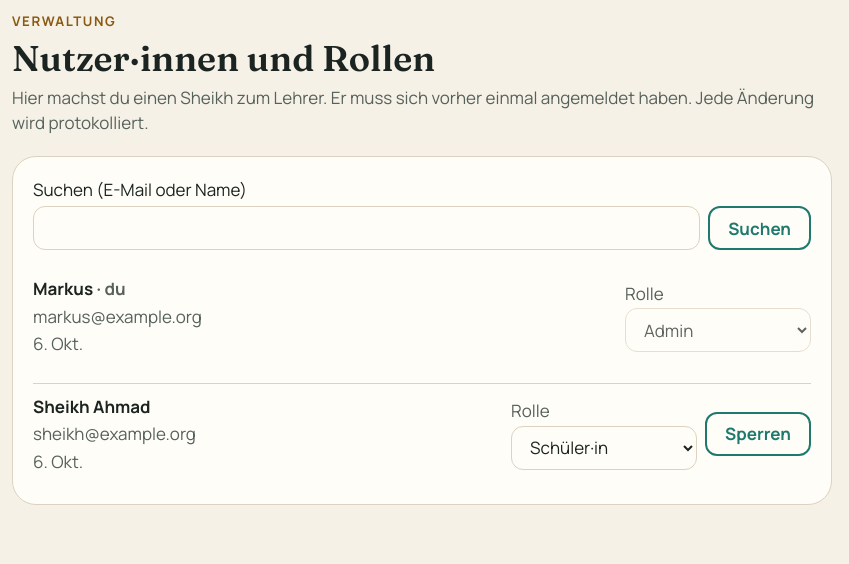
it: the admin area (ADR-0005) › makes a sheikh a teacher, and never offers to change one’s own role
The image size is (849, 564).
Select "Sheikh / Lehrer·in" in the dropdown labelled "Rolle" in the row of "sheikh@example.org". click: (604, 448)
box: 511,426 -> 697,470
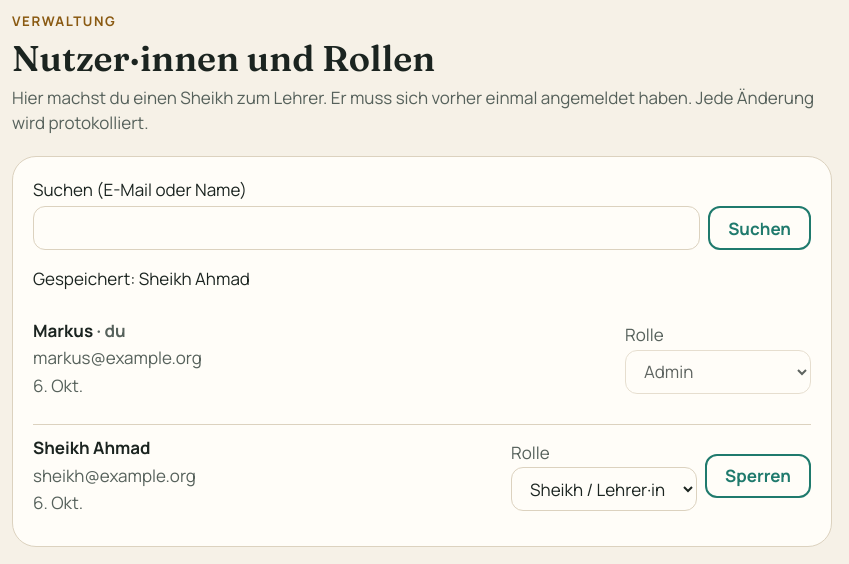
Expected: the dropdown labelled "Rolle" in the row of "markus@example.org" is disabled, 625,350 -> 811,394
Expected: the message reads "Gespeichert: Sheikh Ahmad", 33,267 -> 250,290
